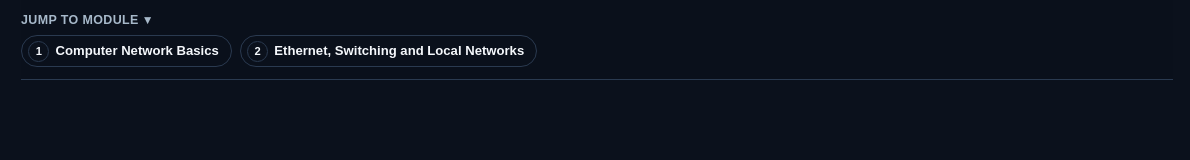
it: PathwayToc › hides the links and flips aria-expanded when the toggle is clicked, then restores them on a second click
Step 1. Click the button "Jump to module ▾" → (86, 20), box [21, 12, 151, 27]
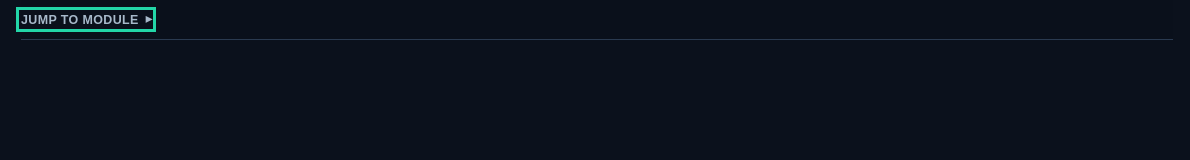
Now the button "Jump to module ▾" is collapsed
Now the link "1 Computer Network Basics" is gone
Step 2. Click the button "Jump to module ▾" → (86, 20), box [21, 12, 151, 27]
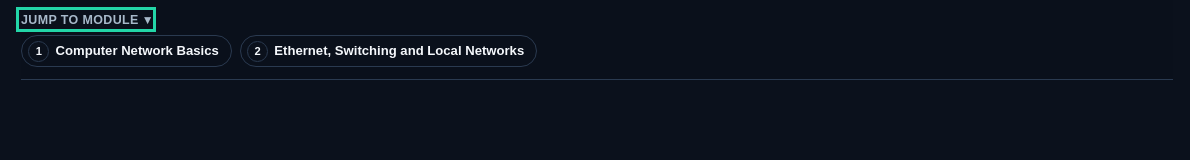
Now the button "Jump to module ▾" is expanded, box [21, 12, 151, 27]
Now the number of links is 2, box [21, 35, 232, 67]; [240, 35, 537, 67]
